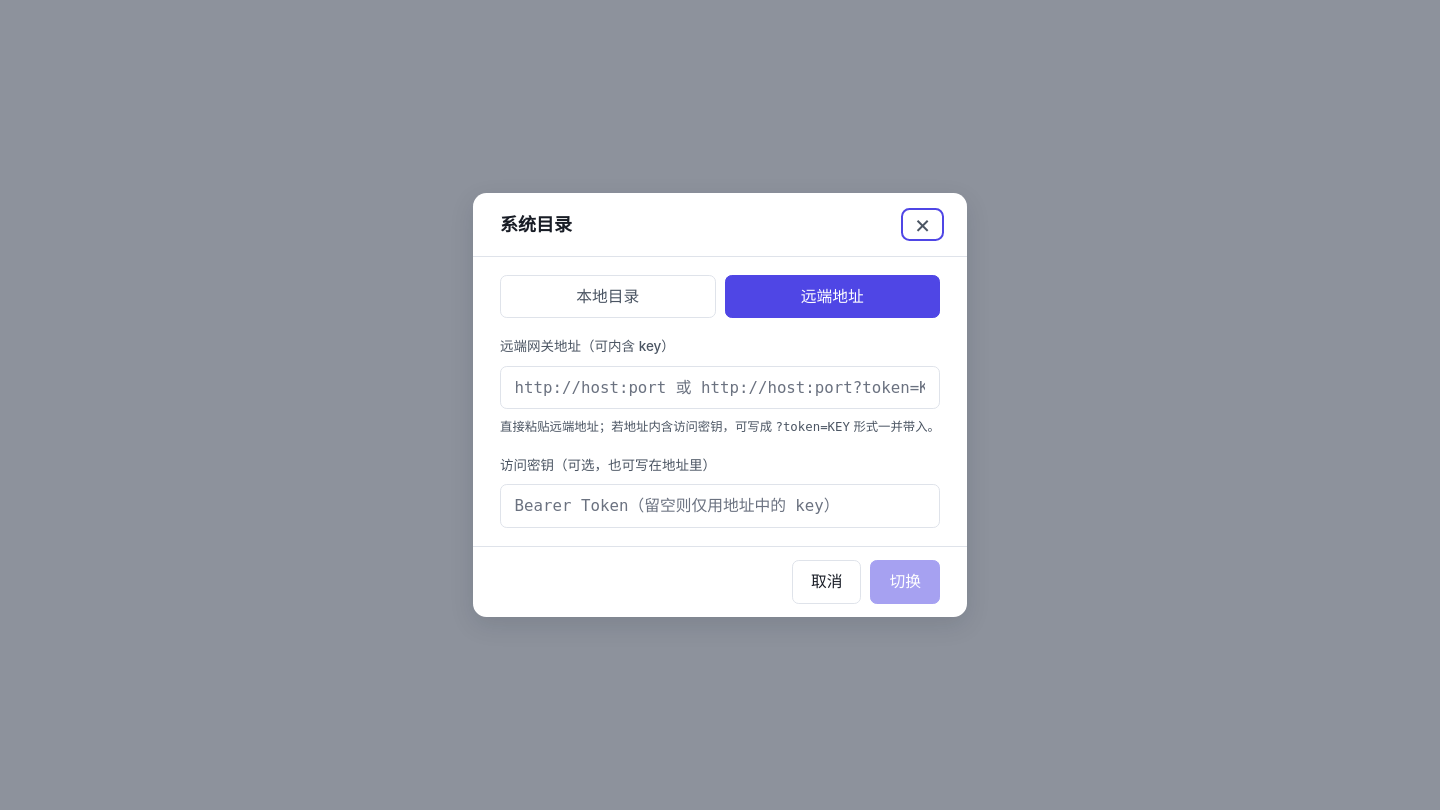
Scenario: HomedirSwitcher — 提交前校验 › 远端非法地址：回车同样被拦下并给文案
Type "ftp://x" into the field with id "sysdir-url" at (720, 387), box [500,366,940,409]
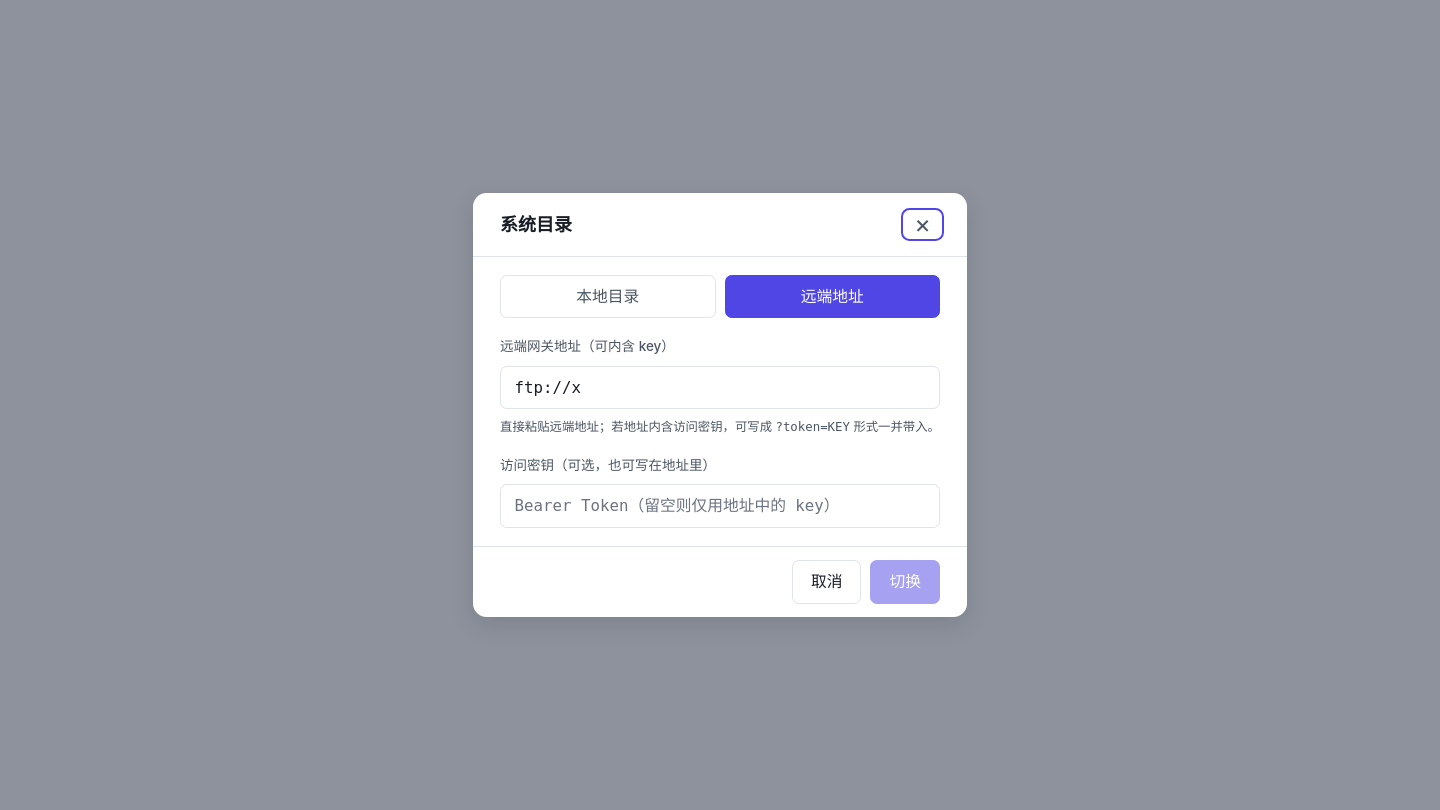
Press Enter in the field with id "sysdir-url", box [500,366,940,409]
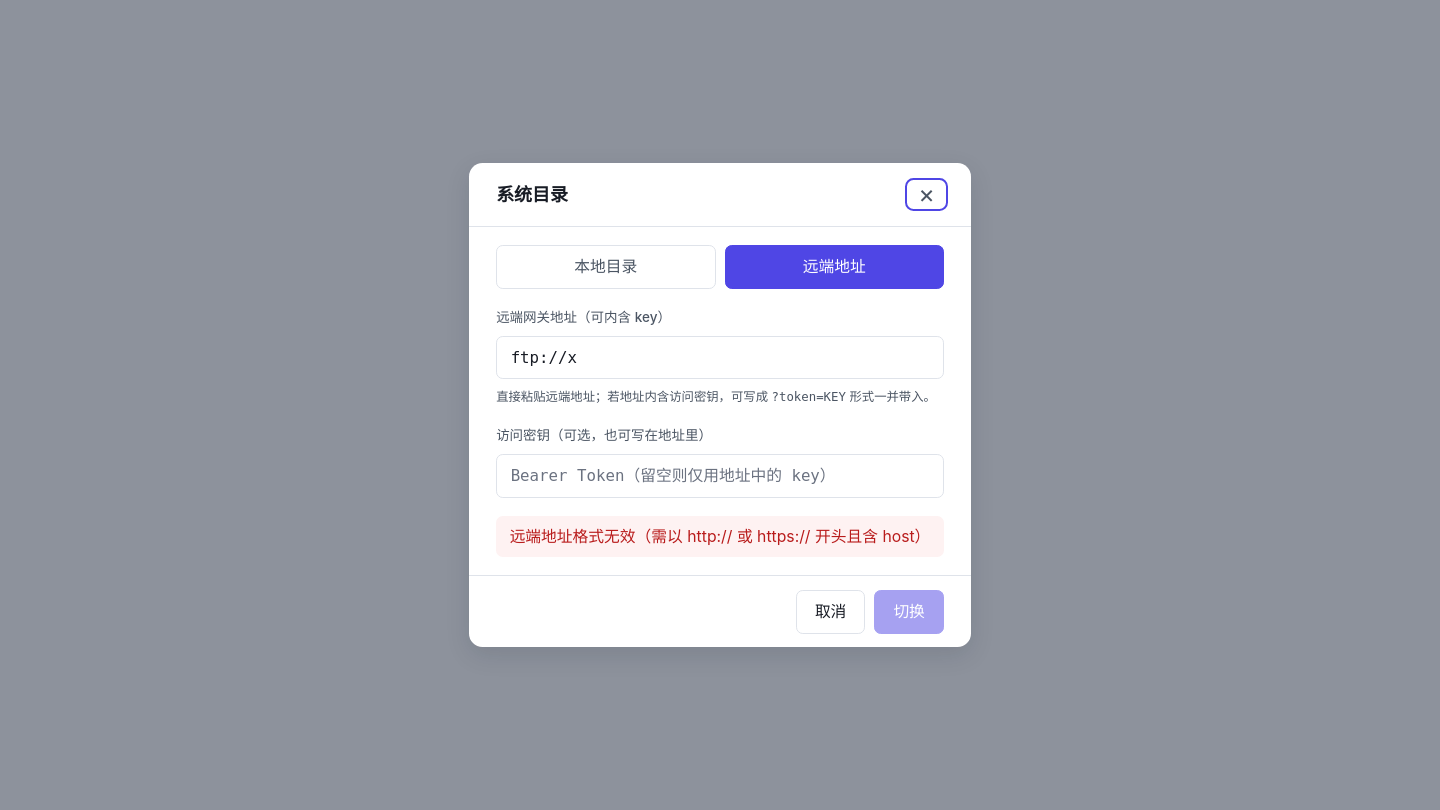
expect the text with class "error" shows "远端地址格式无效": met, box [510,527,930,546]
